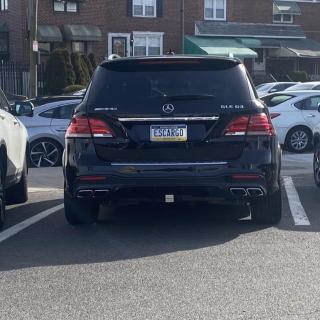license: (151, 125, 189, 142)
